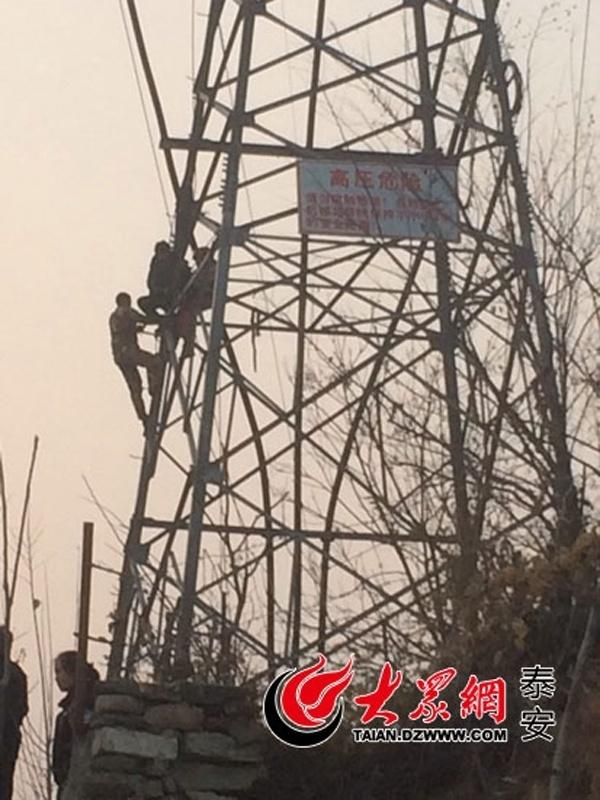power_tower: (94, 9, 587, 664)
